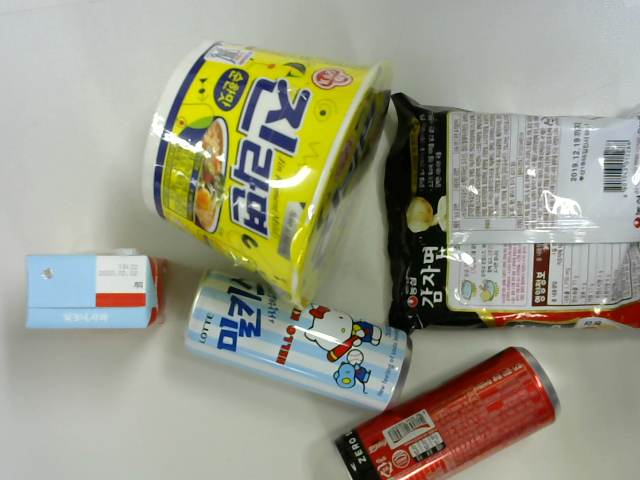Coca_Cola_Zero_Can_250ml: (336, 350, 581, 480)
Jinlamyeon_Mild_Taste_Large_Cup: (151, 41, 386, 278)
Milkies_250ml: (175, 259, 419, 431)
Picnic_Apple: (12, 243, 162, 348)
Potato: (380, 90, 637, 328)
